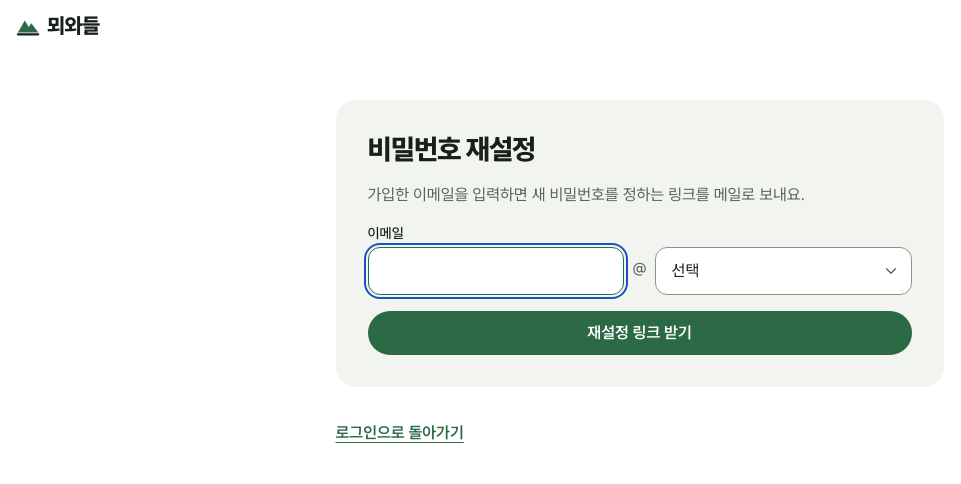
Scenario: 비밀번호 재설정 화면 › 메일 주소를 받는 단계 › 이메일을 비우고 누르면 입력하라는 문구만 보이고 요청은 가지 않는다
Click the button "재설정 링크 받기" at (640, 333), box [368,311,912,355]
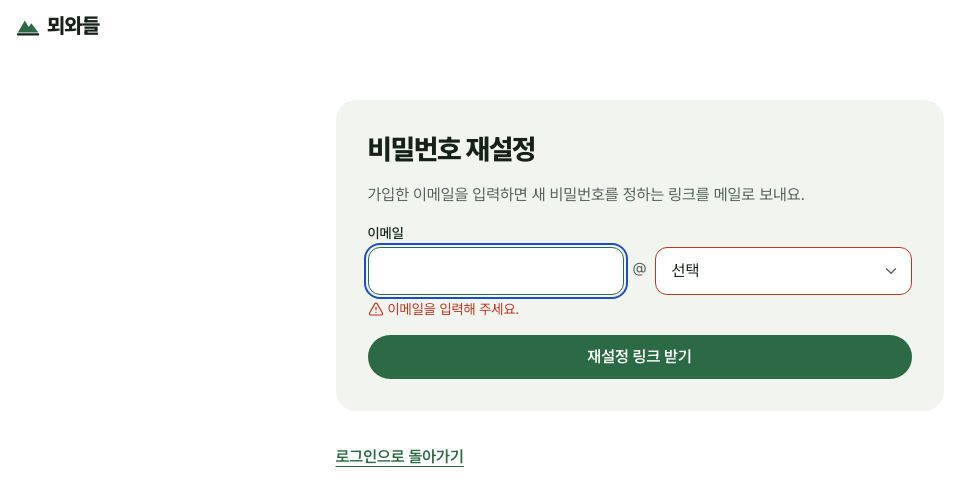
Check: the text "이메일을 입력해 주세요." is shown, box [388,299,519,319]
